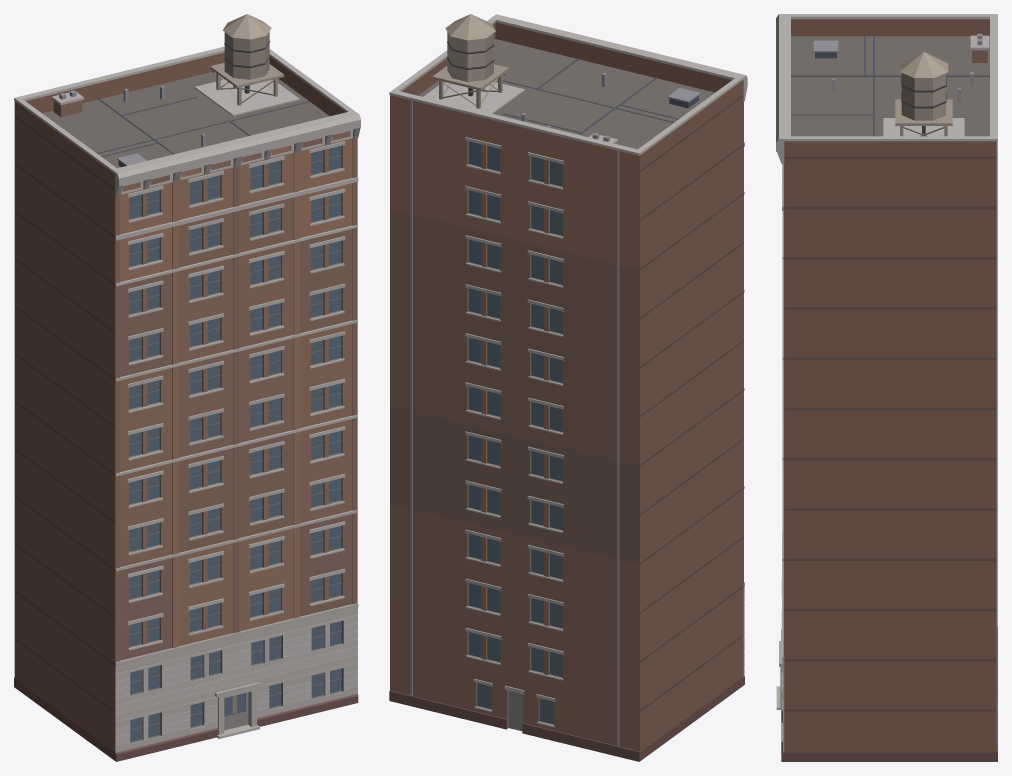
File: city_prewar.glb
3 views of the same model, side by side, from view 1: azimuth 30°, elevation 25°; view 2: azimuth 150°, elevation 25°; view 3: azimuth 270°, elevation 25° (orthographic). The views are drawn at different scales.
Visible parts, largest first — view 1: city_prewar; view 2: city_prewar; view 3: city_prewar.
Boxes of the visible parts, x1,y1,x2,y2 form: city_prewar: (14,14,360,761); city_prewar: (389,14,747,761); city_prewar: (776,14,997,761).
Size of the model in its own units: 15.59 by 40 by 11.69.
